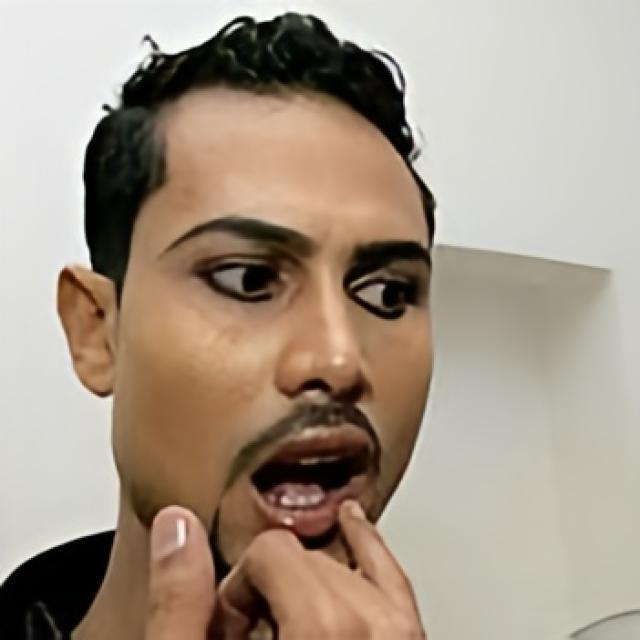surprise: (120, 82, 435, 576)
